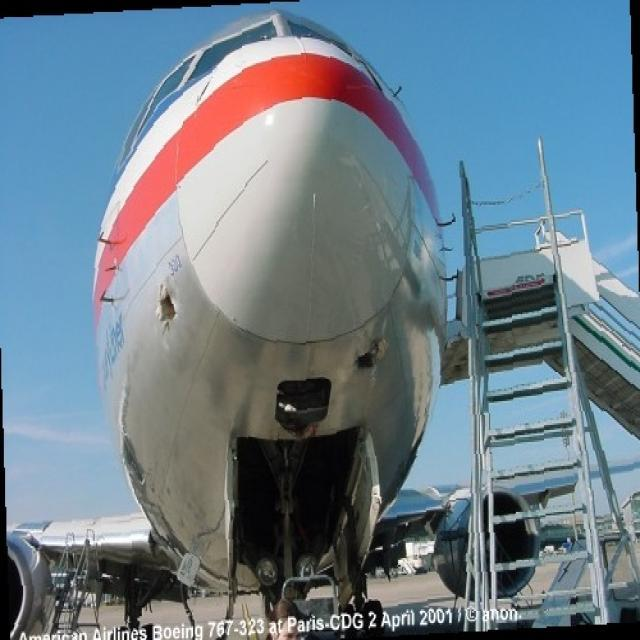dent: (151, 285, 197, 343), (358, 339, 393, 377)
